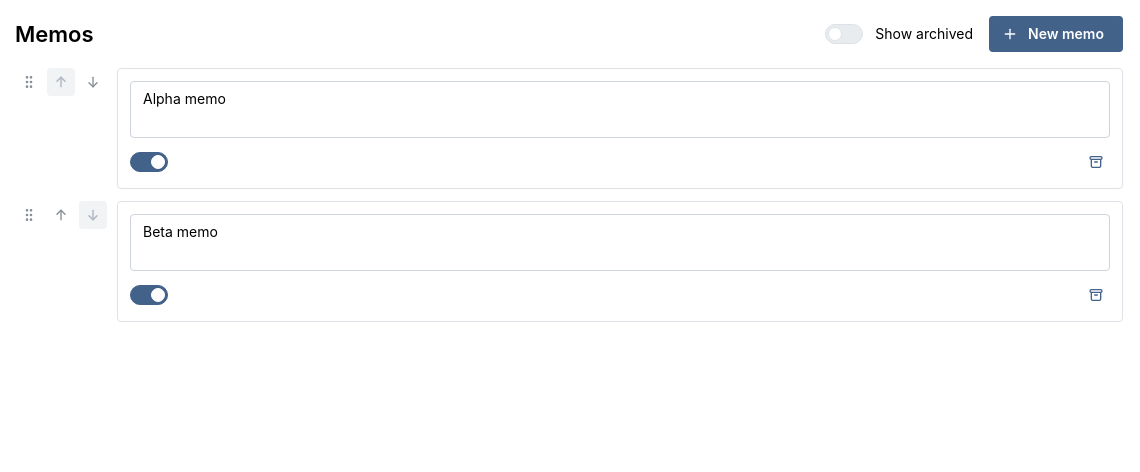
creating a memo (DoD-1, DoD-2, DoD-3, DoD-4) › DoD-1 (US-123.AC-1): the created memo is added LAST in the working list
Expected: the text box named "Memo 1 body" is shown, [130,81,1110,138]
Click the button "New memo" at (1056, 34), box [989,16,1123,52]
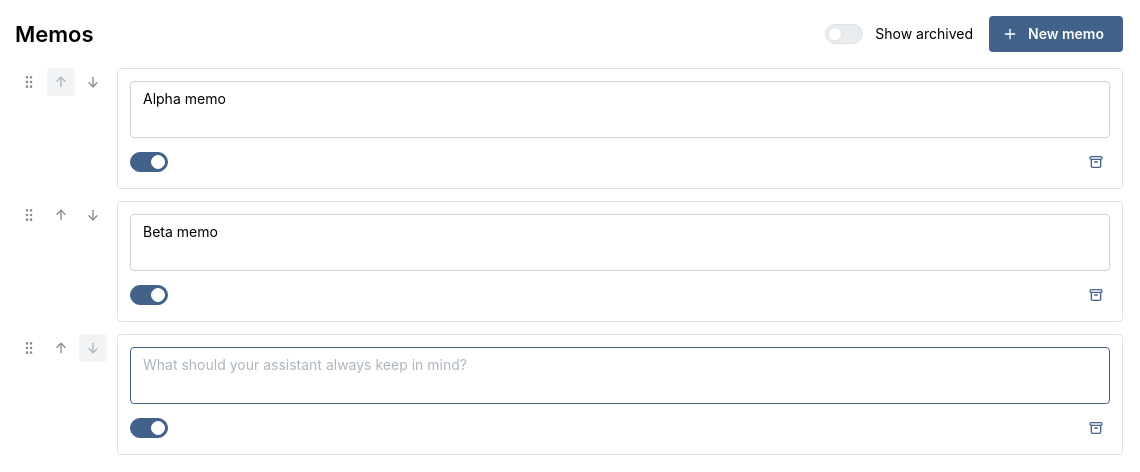
Expected: the text box named "Memo 3 body" is shown, [130,347,1110,404]
